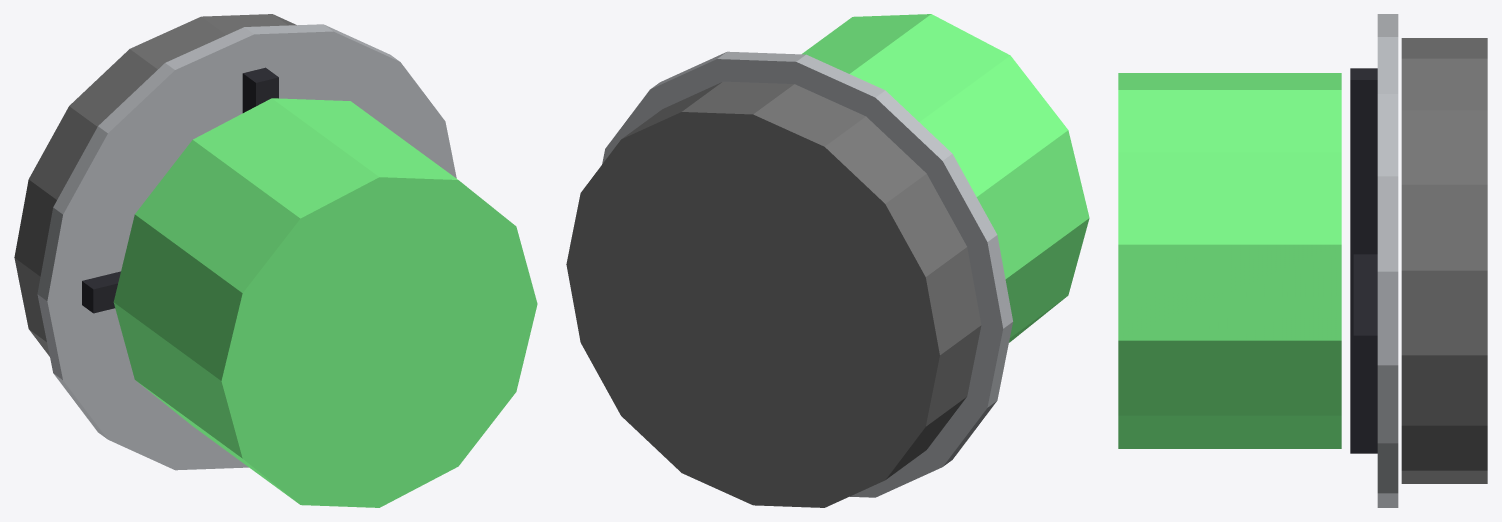
Rendered from toxic_gas_vent.glb.
3 renders of one model, left to right at view 1: azimuth 30°, elevation 25°; view 2: azimuth 150°, elevation 25°; view 3: azimuth 270°, elevation 25°, orthographic. The views are drawn at different scales.
Parts seen in each view (by area): view 1: gas, grate, vent, slat2, slat1; view 2: vent, gas, grate; view 3: gas, vent, grate, slat2, slat1.
Boxes of the visible parts, x1,y1,x2,y2 form: gas: [113, 98, 537, 507]; grate: [37, 24, 456, 470]; vent: [14, 14, 296, 356]; slat2: [242, 67, 278, 112]; slat1: [82, 271, 120, 313]; vent: [566, 81, 981, 507]; gas: [802, 14, 1089, 342]; grate: [602, 51, 1012, 497]; gas: [1118, 73, 1341, 448]; vent: [1401, 38, 1487, 483]; grate: [1377, 14, 1398, 507]; slat2: [1350, 68, 1377, 453]; slat1: [1353, 254, 1377, 360].
Size of the model in its own units: 1.44 by 1.44 by 1.08.
